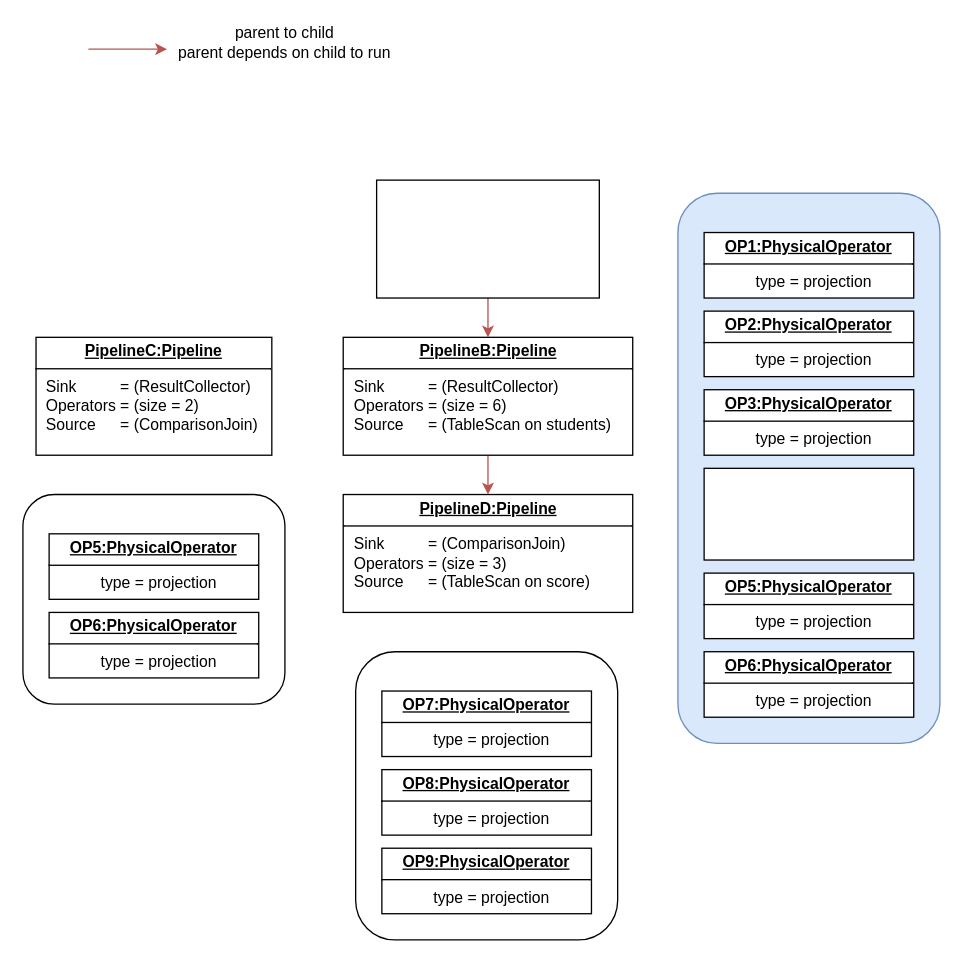
Some shapes in this 963 by 973 pixel diagram are drawn without their labels. Here are the shapes that lost their labels. From the top down, the centre of each, then its label:
pixel 487 238: PipelineA:Pipeline Sink = NULL Operators = NULL Source = (ResultCollector)
pixel 808 513: OP4:PhysicalOperator type = ComparisonJoin (Hash Join)
